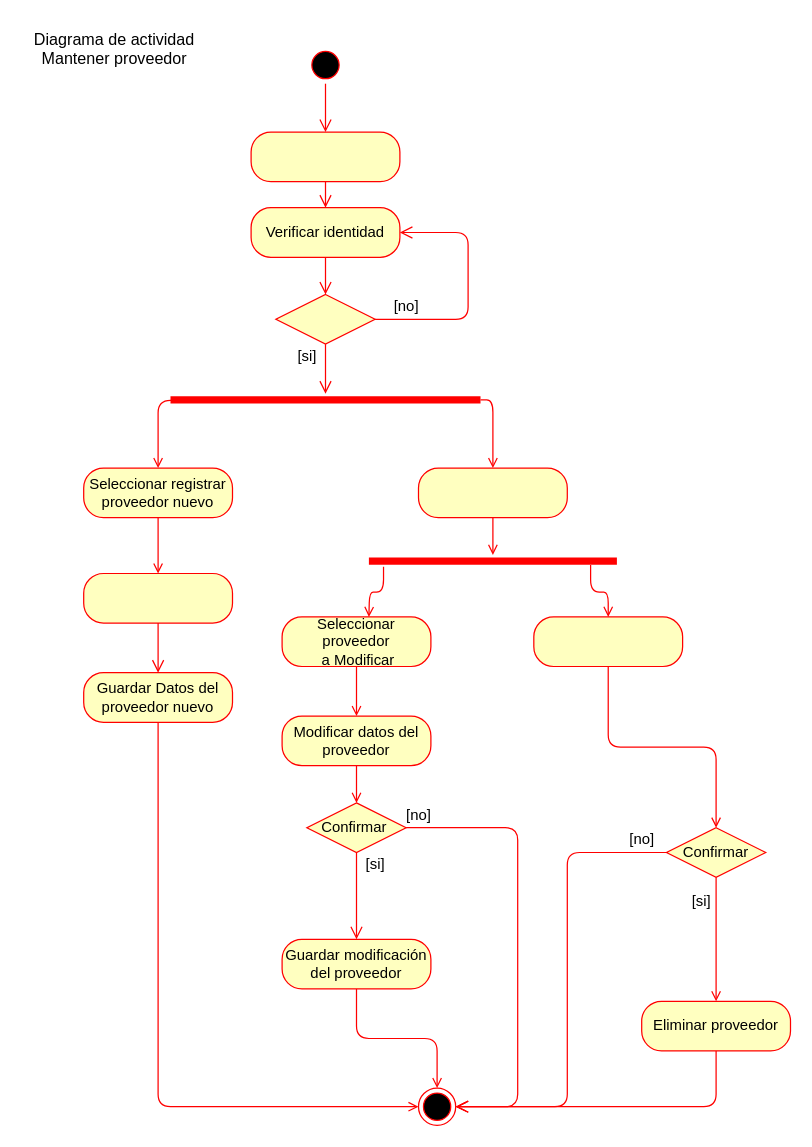
This 812x1147 diagram has some shape labels left out. Here are the shapes that lost their labels. From the top down, the centre of each, then its label:
(325,156): Acceder al sistema
(325,318): usuario válido
(492,492): Seleccionar listado de proveedor
(157,597): Registrar datos de proveedor nuevo
(608,641): Seleccionar proveedor a Eliminar
